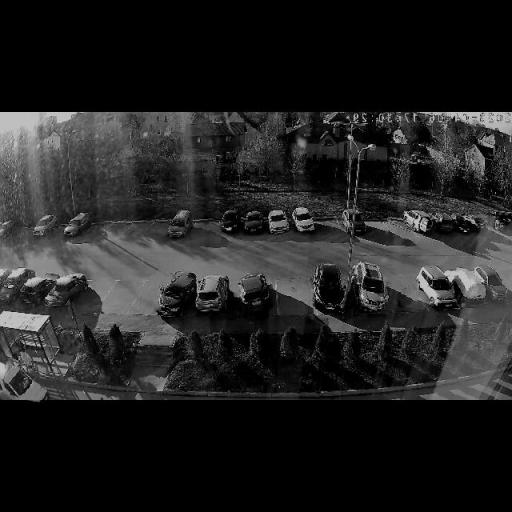busy: (304, 262, 352, 312), (348, 262, 396, 312), (415, 266, 460, 310), (150, 272, 194, 317), (3, 360, 47, 402), (232, 273, 275, 314), (187, 275, 231, 314), (40, 274, 88, 308), (451, 268, 493, 305), (19, 270, 56, 306), (474, 266, 507, 304), (1, 268, 28, 306), (160, 212, 192, 238), (402, 211, 436, 234), (57, 214, 92, 236), (264, 210, 294, 234), (290, 208, 320, 232), (28, 216, 58, 236), (214, 211, 244, 231), (240, 212, 267, 234), (430, 210, 453, 233), (451, 210, 471, 236), (464, 212, 486, 234)
free: (276, 272, 313, 317), (134, 276, 166, 314), (384, 276, 418, 311), (312, 213, 341, 241), (100, 288, 132, 310), (386, 212, 412, 238), (72, 290, 102, 312), (87, 215, 113, 238), (194, 216, 216, 242), (11, 218, 34, 242), (126, 218, 150, 240), (362, 215, 384, 236), (50, 220, 72, 238), (110, 219, 127, 239), (150, 220, 168, 238)
